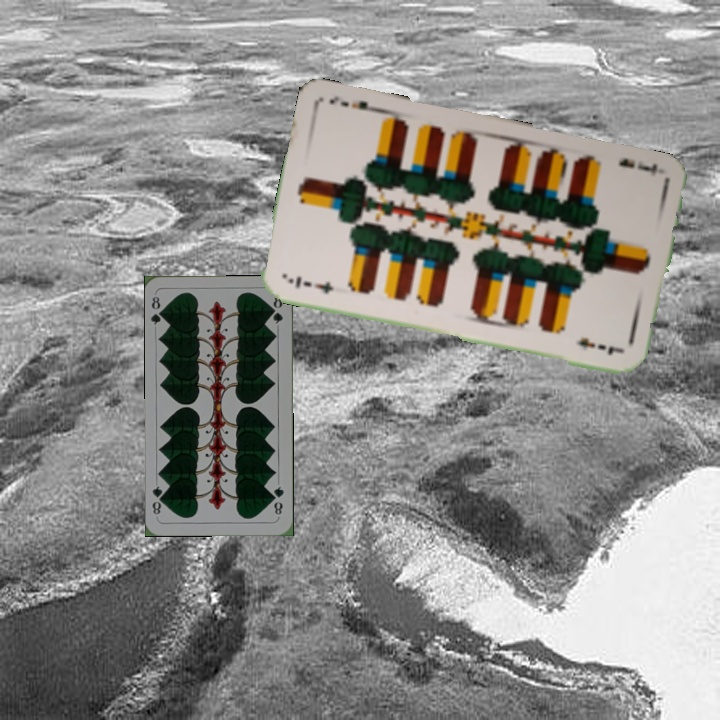E7: (284, 272, 337, 297), (615, 154, 661, 178)
G8: (147, 293, 167, 327), (269, 482, 287, 517)
